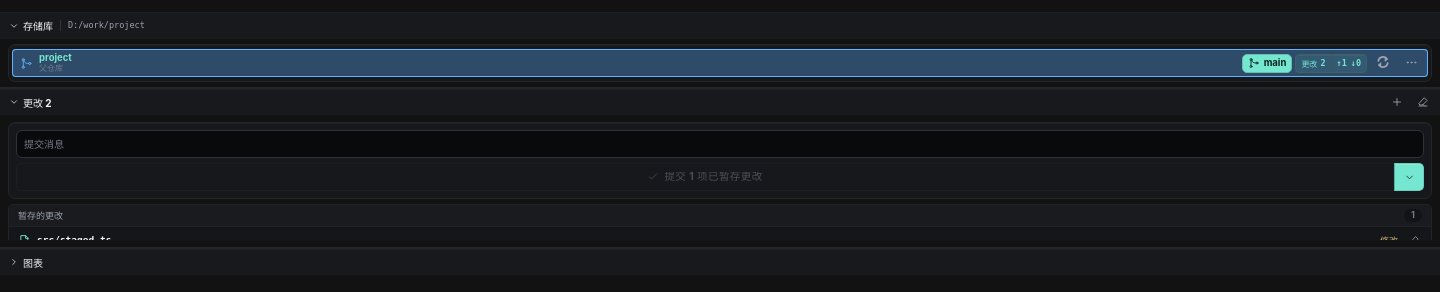
Scenario: GitPane basics and lifecycle › keeps changes and graph mutually exclusive while preserving their visual order
This screenshot has width=1440, height=292.
Expected: the text "project" is shown, 39,52 -> 72,63
Click the button "图表".
click(14, 262)  # box 5,252 -> 1435,272
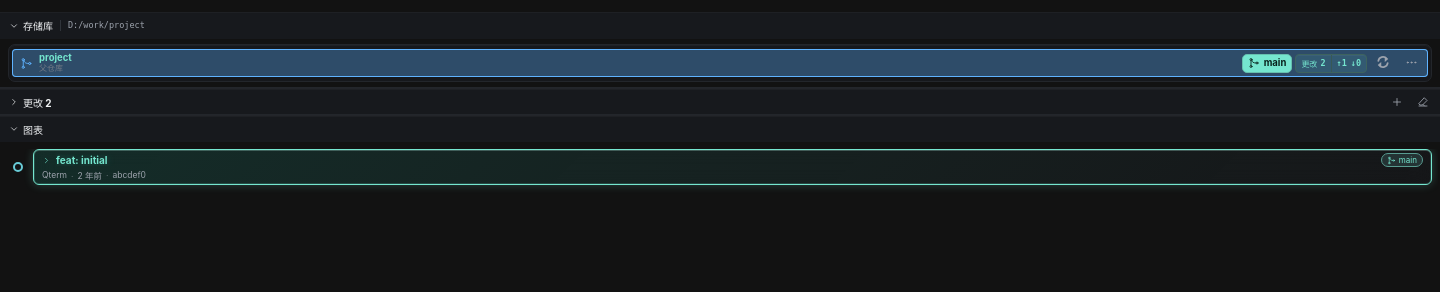
Expected: the button "图表" is expanded, 5,118 -> 1435,140
Expected: the 2nd button "更改 2" is collapsed
Click the 2nd button "更改 2".
click(14, 102)  # box 5,92 -> 1385,112
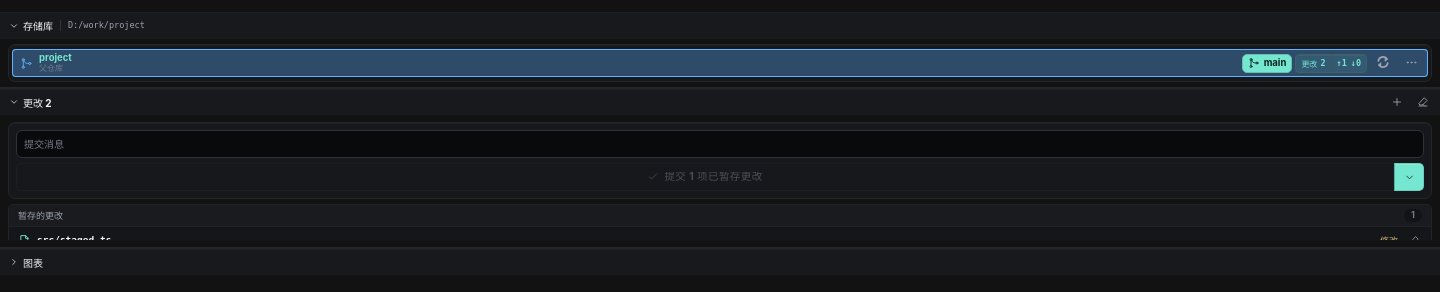
Expected: the 2nd button "更改 2" is expanded, 5,92 -> 1385,112
Expected: the button "图表" is collapsed, 5,252 -> 1435,272
